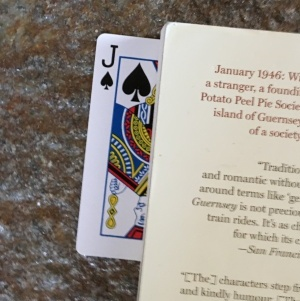card: (76, 32, 162, 269)
